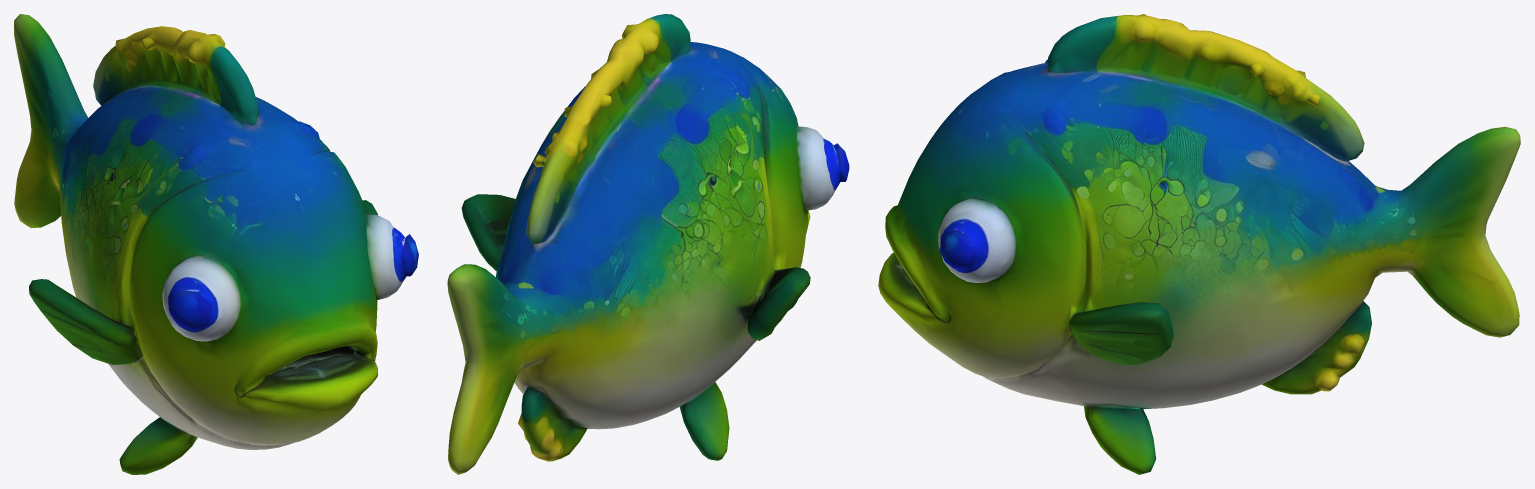
Rendered from mahimahi.glb.
3 renders of one model, left to right at view 1: azimuth 30°, elevation 25°; view 2: azimuth 150°, elevation 25°; view 3: azimuth 270°, elevation 25°, orthographic.
Visible parts, largest first — view 1: tripo_node_8665e9c0-6209-43ce-8563-09eb5dcf8f48; view 2: tripo_node_8665e9c0-6209-43ce-8563-09eb5dcf8f48; view 3: tripo_node_8665e9c0-6209-43ce-8563-09eb5dcf8f48.
Part boxes in pixels (x1=…): tripo_node_8665e9c0-6209-43ce-8563-09eb5dcf8f48: x1=14, y1=14, x2=418, y2=474; tripo_node_8665e9c0-6209-43ce-8563-09eb5dcf8f48: x1=447, y1=14, x2=849, y2=474; tripo_node_8665e9c0-6209-43ce-8563-09eb5dcf8f48: x1=878, y1=14, x2=1520, y2=474.
Bounding box in the file's own units: 0.6176 × 0.7213 × 0.9997.
Materials: 1 (1 with a texture image).
